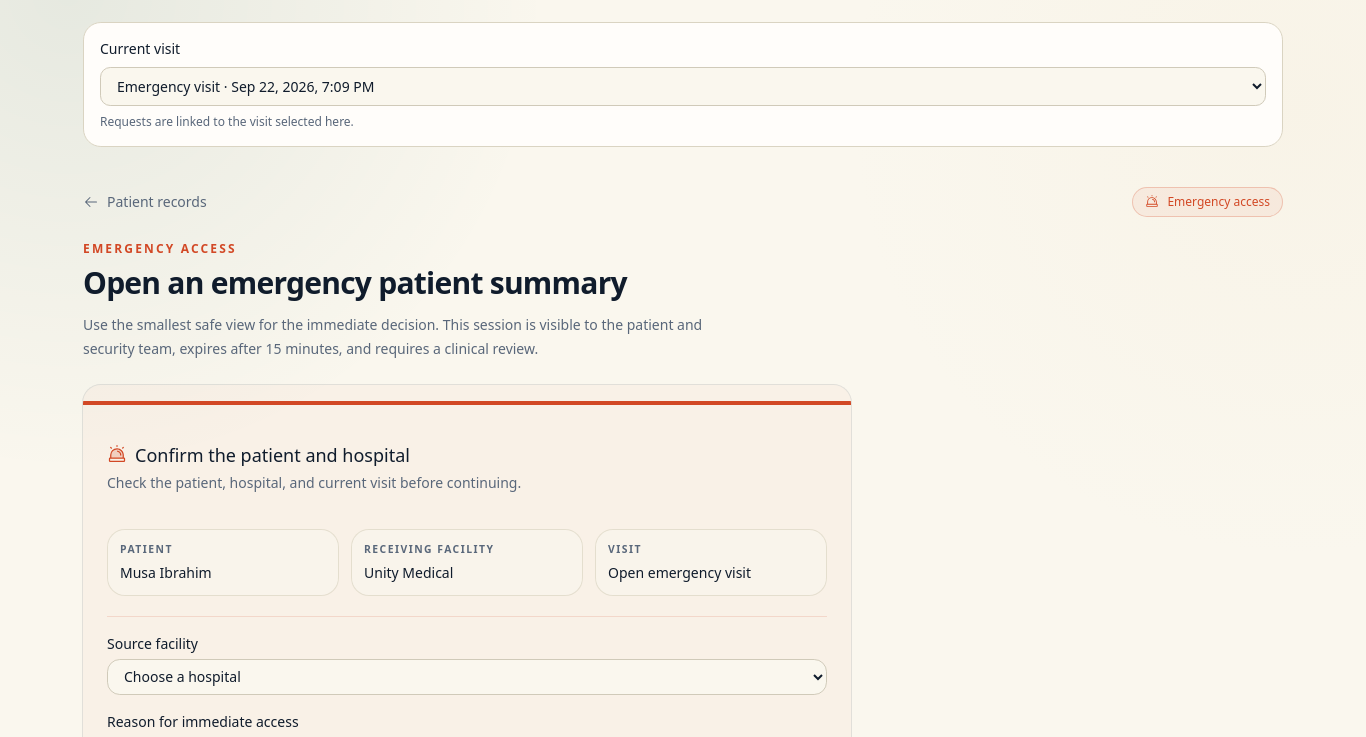
Test: activates a bounded summary before offering explicit expansion
expect the heading "Open an emergency patient summary" is shown: met, box [83,262,627,303]
Select "Mercy General" in the dropdown labelled "Source facility" at {"x": 467, "y": 677}, box [107,659,827,695]
(page scrolled)
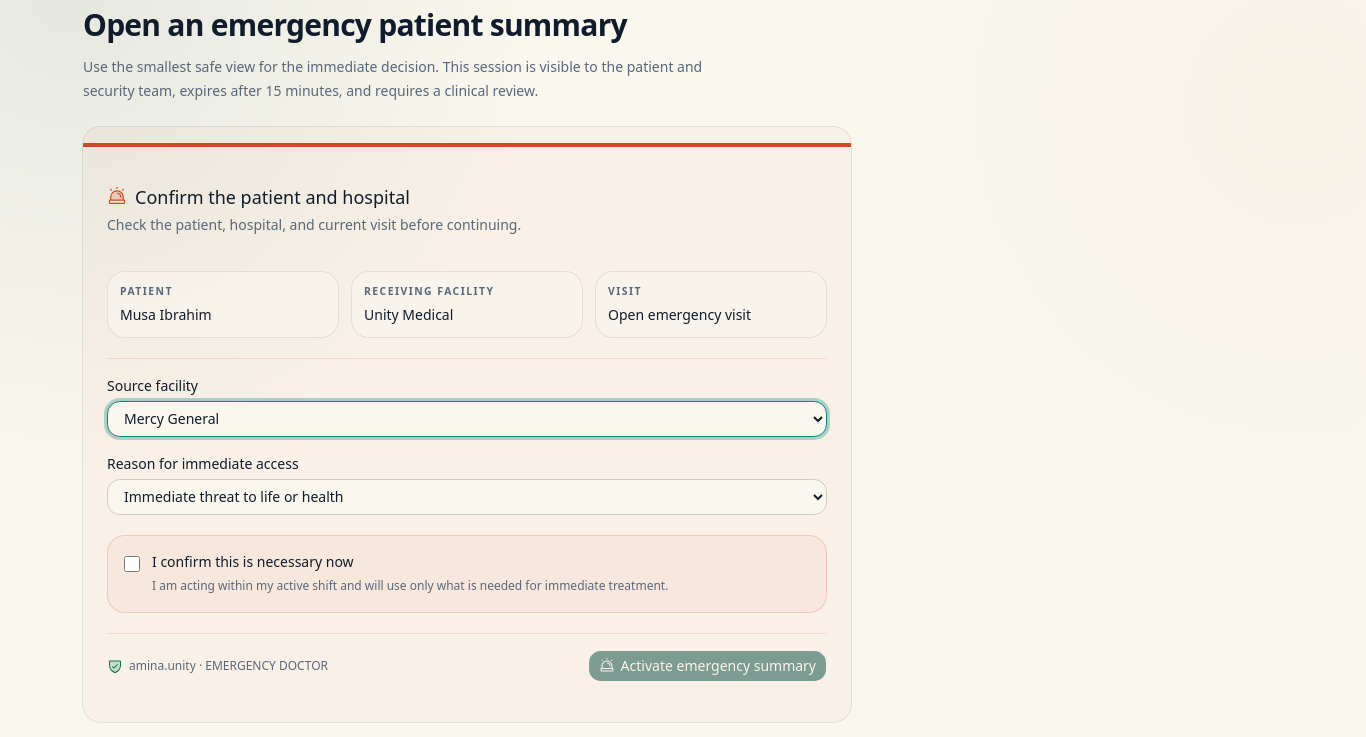
Click the checkbox labelled "I confirm this is necessary now" at {"x": 132, "y": 564}, box [124,556,140,572]
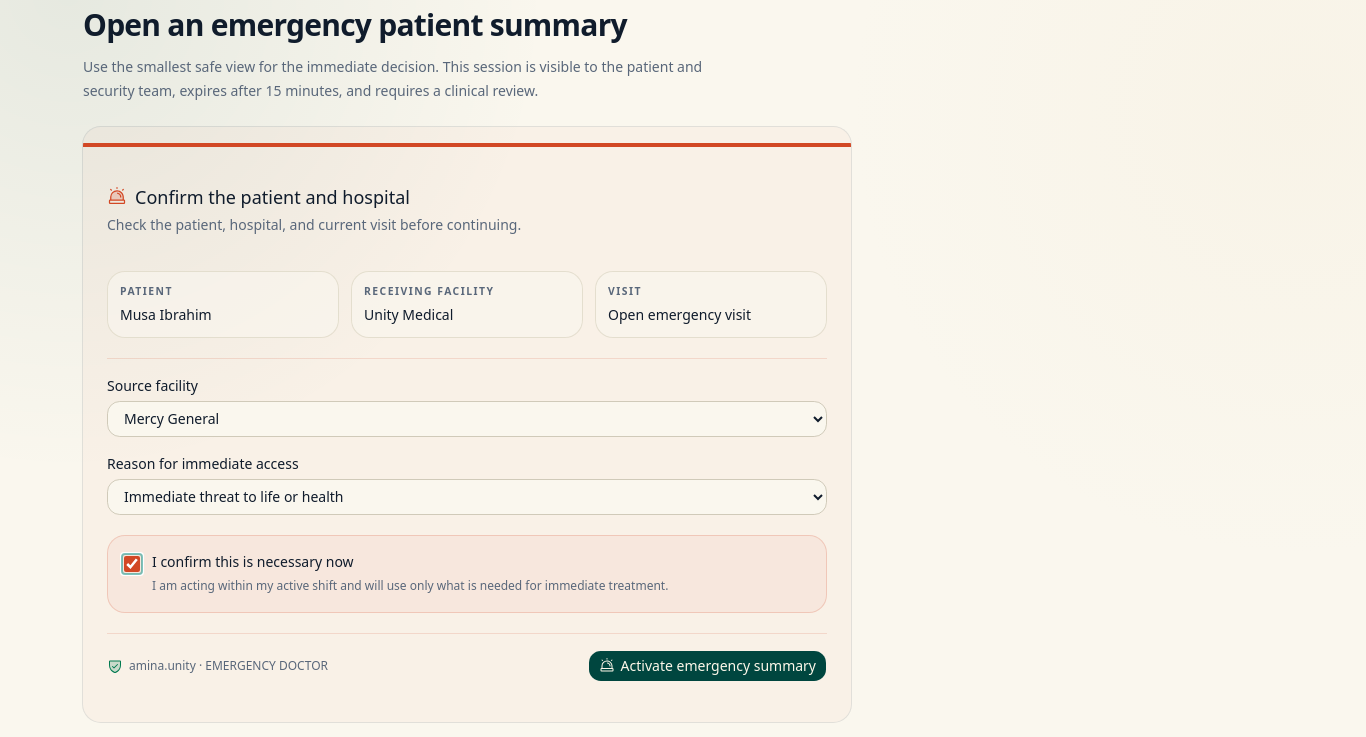
Click the button "Activate emergency summary" at {"x": 707, "y": 666}, box [588,650,827,682]
(page scrolled)
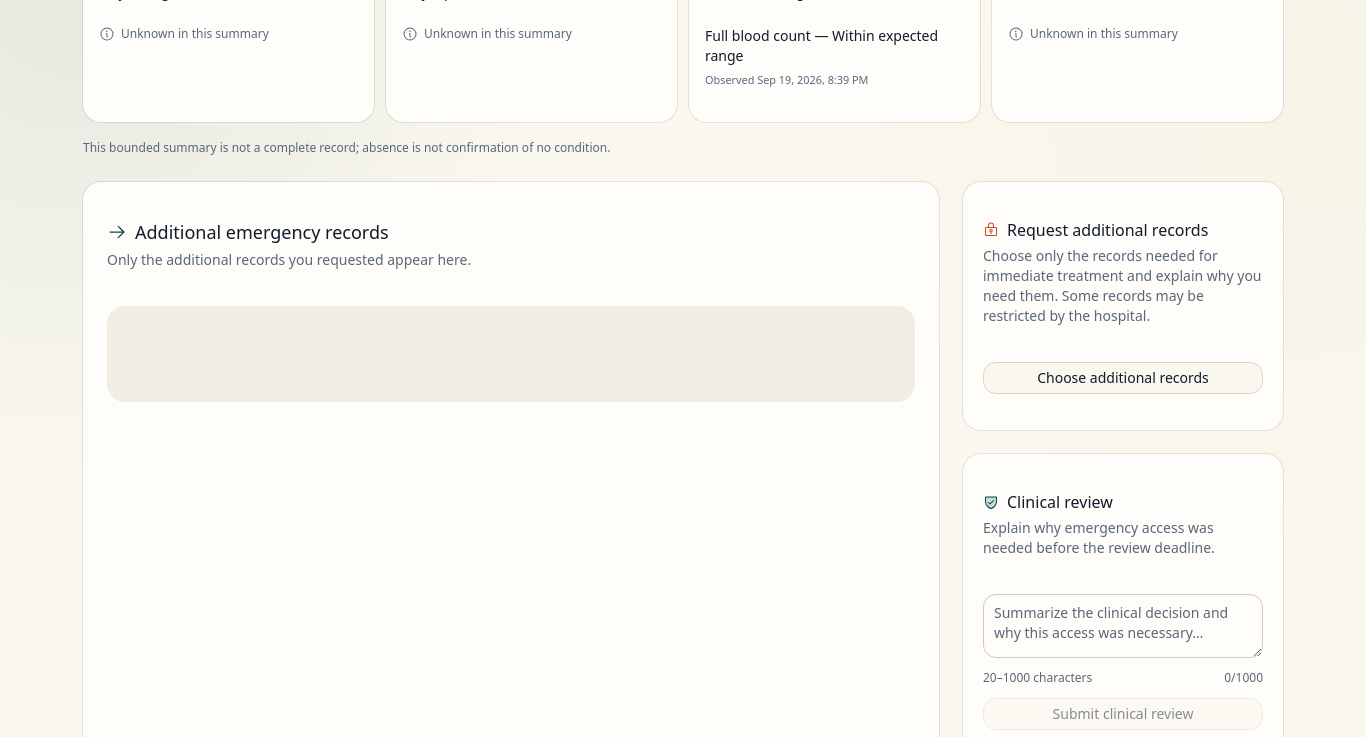
expect the button "Choose additional records" is shown: met, box [983,362,1263,394]
